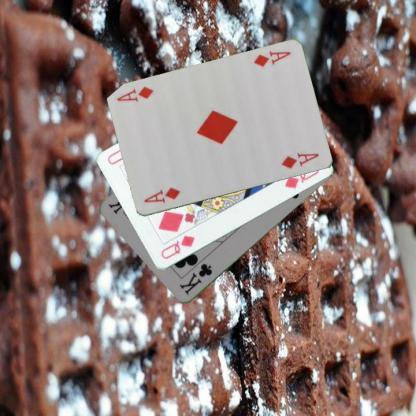Ad: (250, 49, 292, 68), (141, 185, 181, 204)
Kc: (176, 261, 214, 296)
Qd: (158, 232, 196, 261)
